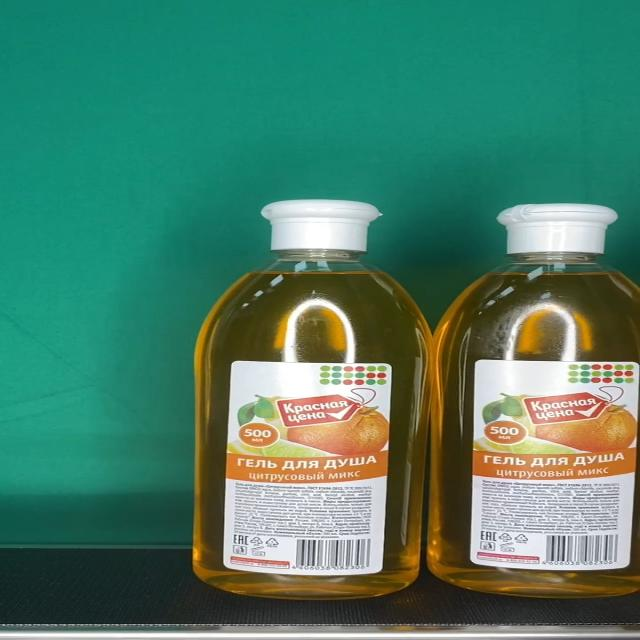Bottle: (192, 201, 434, 600), (431, 202, 640, 597)
Cap: (496, 203, 618, 254), (260, 202, 381, 252)
